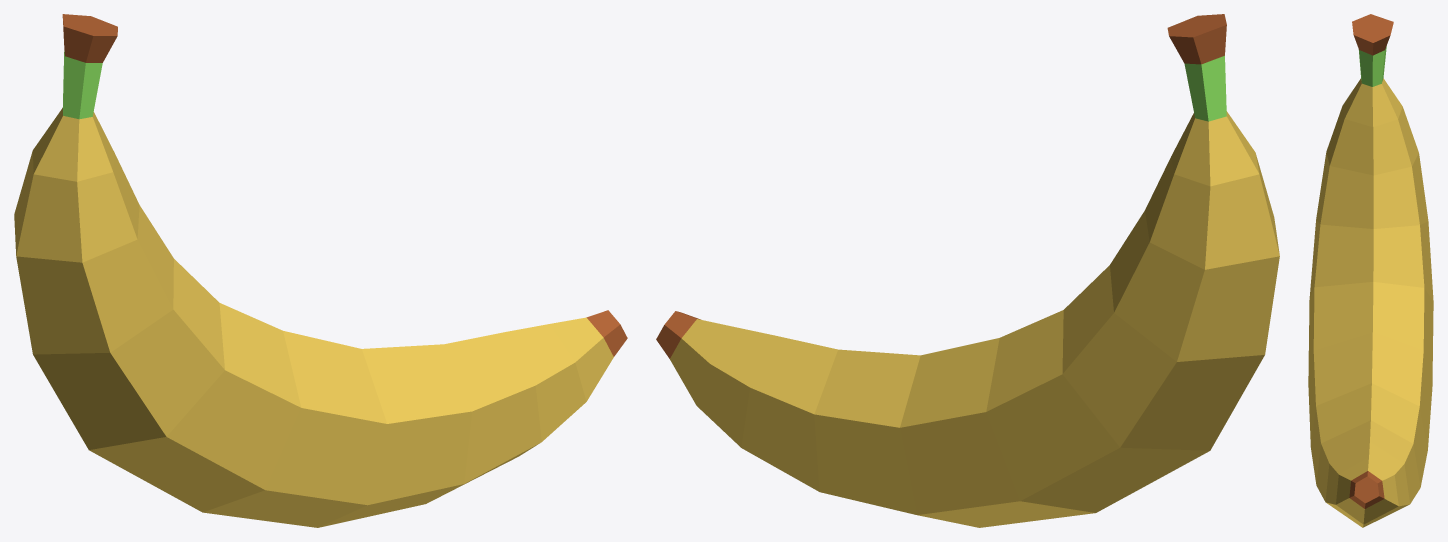
The model's file is banana.fbx.
The picture shows the model from 3 angles, left to right: view 1: azimuth 30°, elevation 25°; view 2: azimuth 150°, elevation 25°; view 3: azimuth 270°, elevation 25°; orthographic projection. The views are drawn at different scales.
Visible parts, largest first — view 1: banana; view 2: banana; view 3: banana.
Boxes of the visible parts, box(x1,y1,x2,y2) form: banana: box(14, 14, 627, 527); banana: box(656, 14, 1279, 527); banana: box(1308, 14, 1433, 527).
Size of the model in its own units: 241 by 212 by 63.23.
